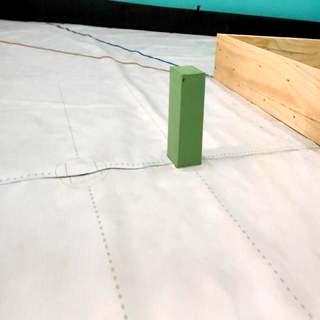greenbox: (165, 60, 207, 170)
